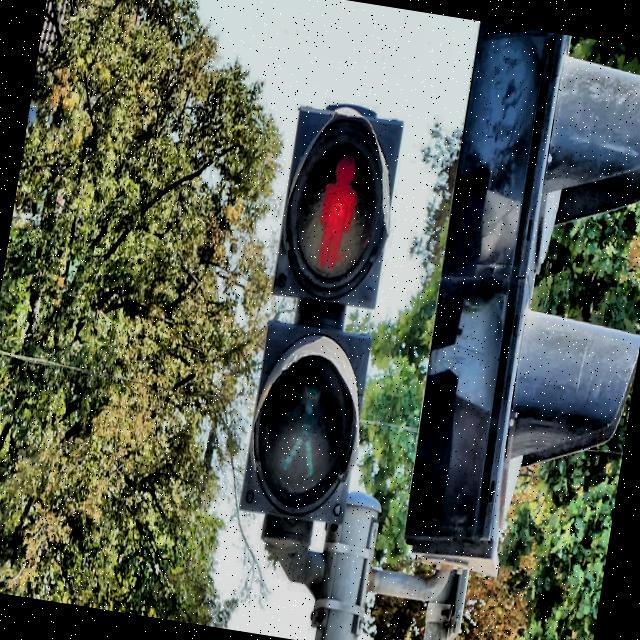red_light: (310, 147, 364, 278)
